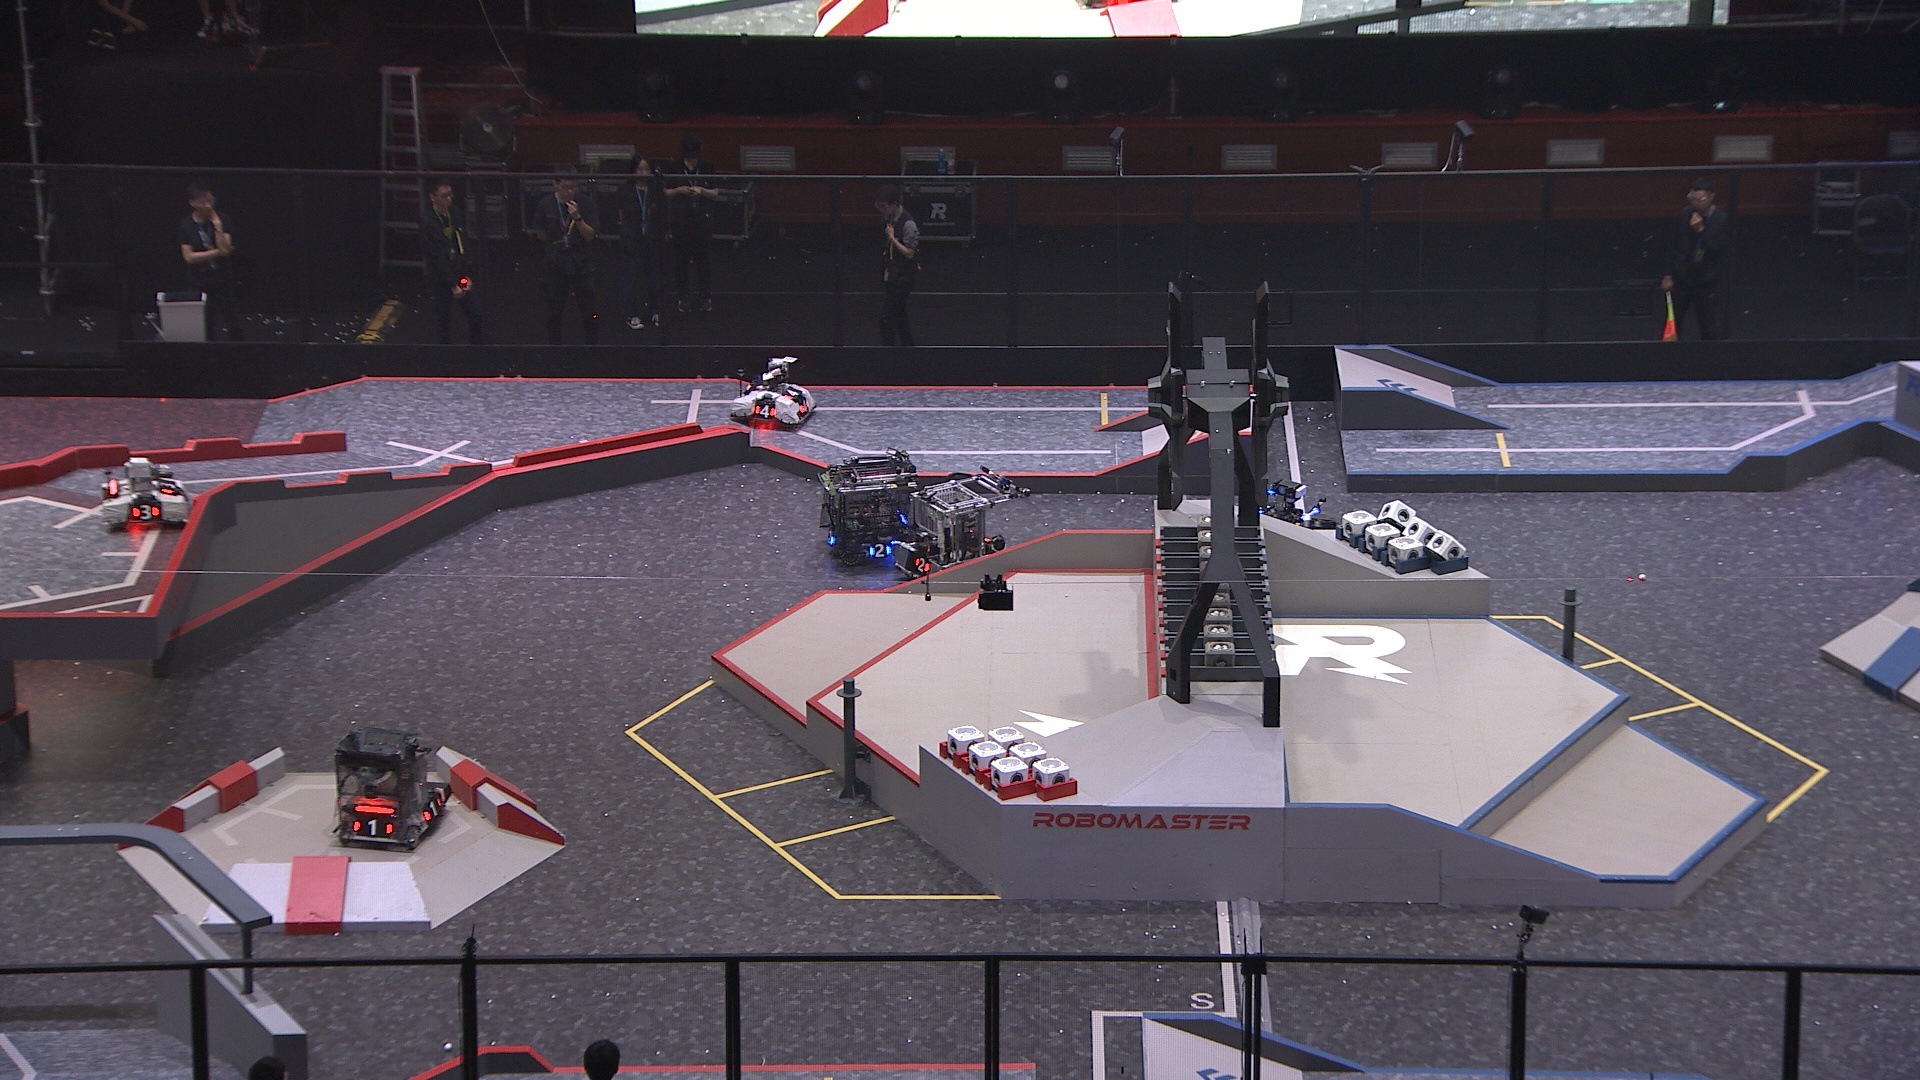armor: (349, 818, 396, 839), (131, 501, 158, 522), (423, 796, 443, 822), (868, 541, 891, 560), (754, 404, 778, 419), (913, 556, 932, 575), (158, 479, 178, 495), (825, 529, 840, 550), (796, 400, 812, 415), (785, 386, 802, 400)
car: (332, 727, 452, 851), (887, 481, 1007, 585), (816, 447, 916, 567), (96, 456, 191, 533), (731, 356, 822, 431), (1245, 480, 1335, 546)
